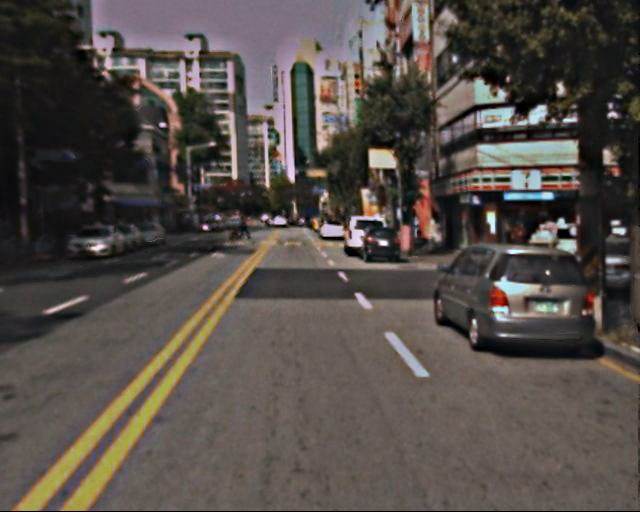person: (507, 214, 531, 268), (238, 214, 250, 244)
